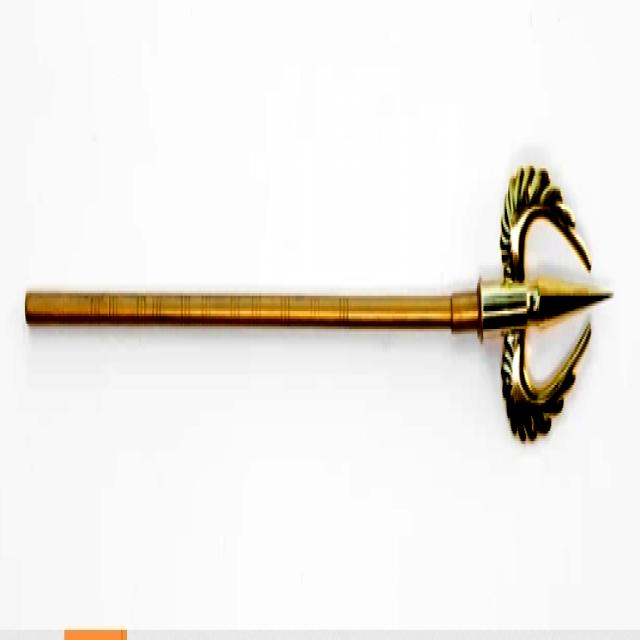spear: (20, 95, 615, 483)
